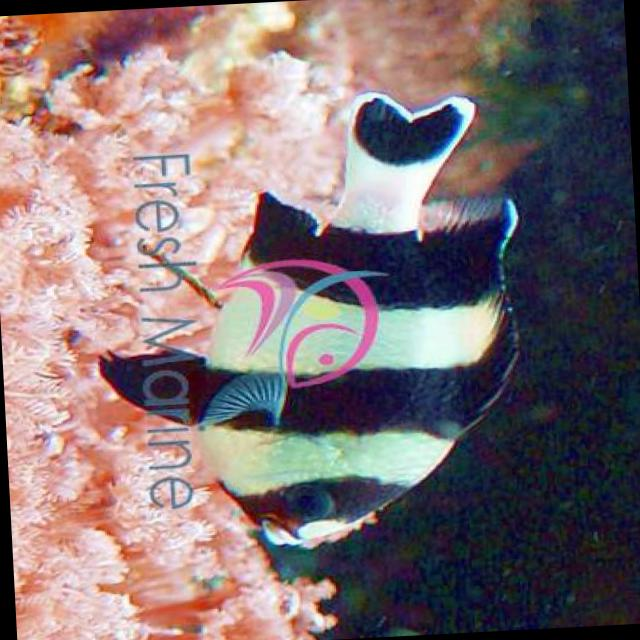ThreeStripedDamselfish: (99, 92, 516, 548)
